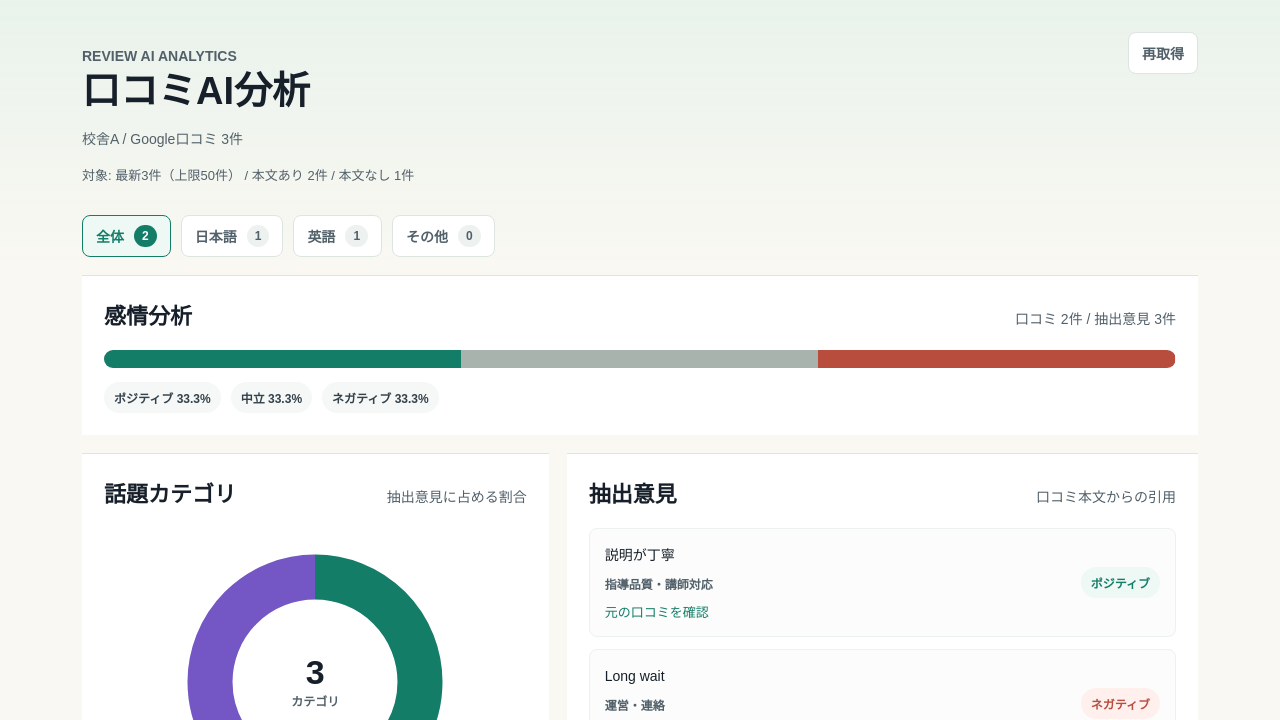
it: review analysis: UI -> API -> source text -> AI validation -> UI › binds source quotes, real denominators, language filters and scoped links through the complete pipeline
Check: the text "校舎A / Google口コミ 3件" is shown, box [82,131,243,147]
Check: the text "対象: 最新3件（上限50件） / 本文あり 2件 / 本文なし 1件" is shown, box [82,168,414,183]
Click the button "日本語 1": [232, 236] box [181,215,283,257]
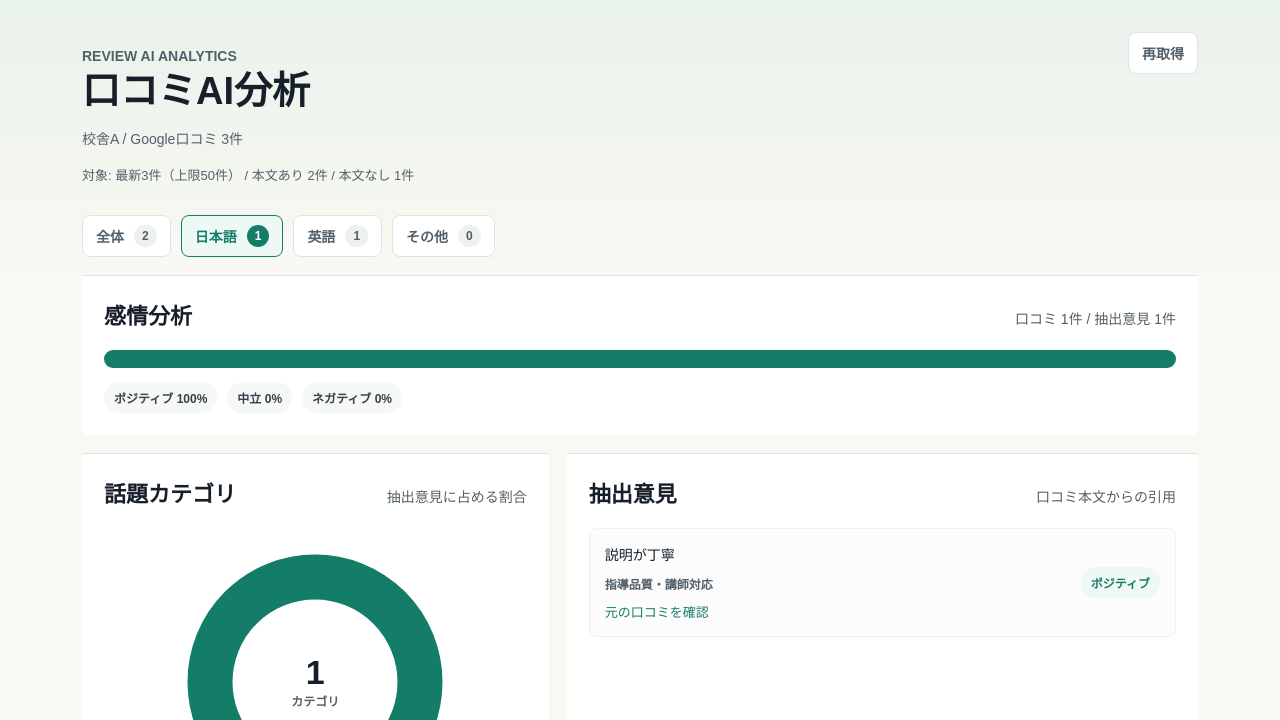
Check: the text "ポジティブ 100%" is shown, box [104,382,217,413]
Check: the text "Long wait" is gone
Click the button "英語 1": [338, 236] box [293,215,382,257]
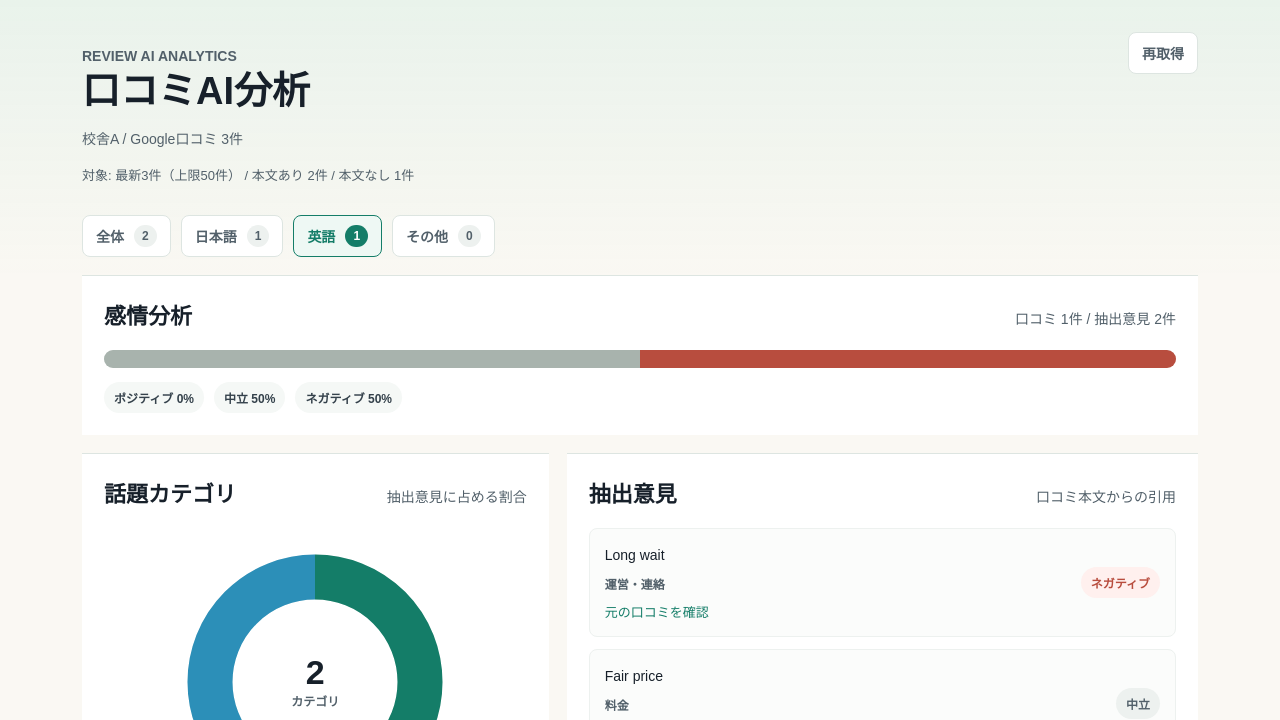
Check: the text "ネガティブ 50%" is shown, box [295,382,402,413]
Check: the text "中立 50%" is shown, box [214,382,285,413]
